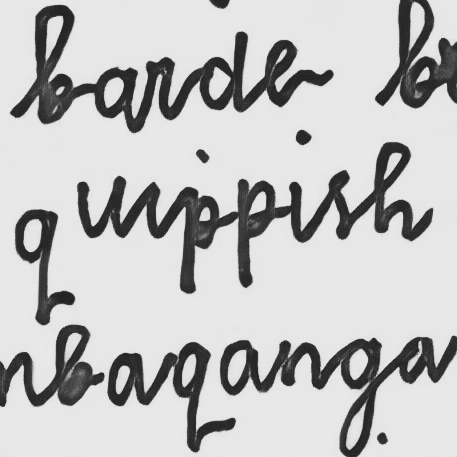h: (371, 139, 417, 239)
i: (286, 128, 314, 246), (137, 179, 165, 240)
p: (233, 176, 278, 292), (175, 185, 221, 295)
q: (12, 207, 64, 328)
s: (323, 168, 355, 241)
u: (74, 173, 128, 242)
